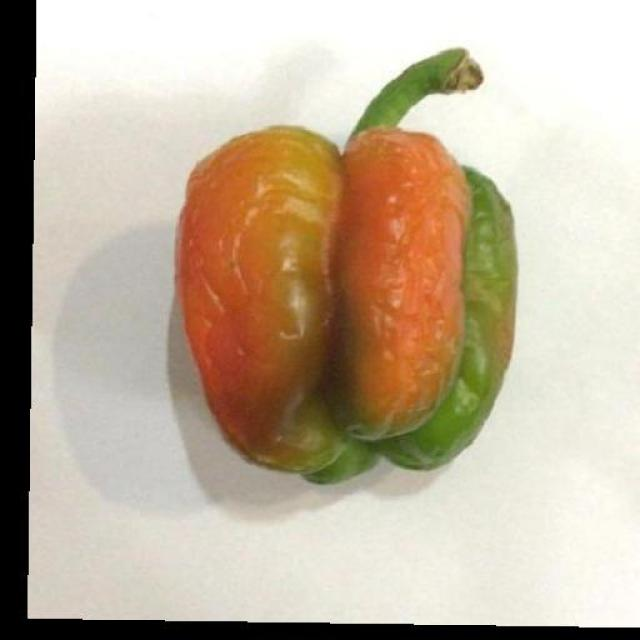Stale_Capsicum: (158, 84, 510, 495)
